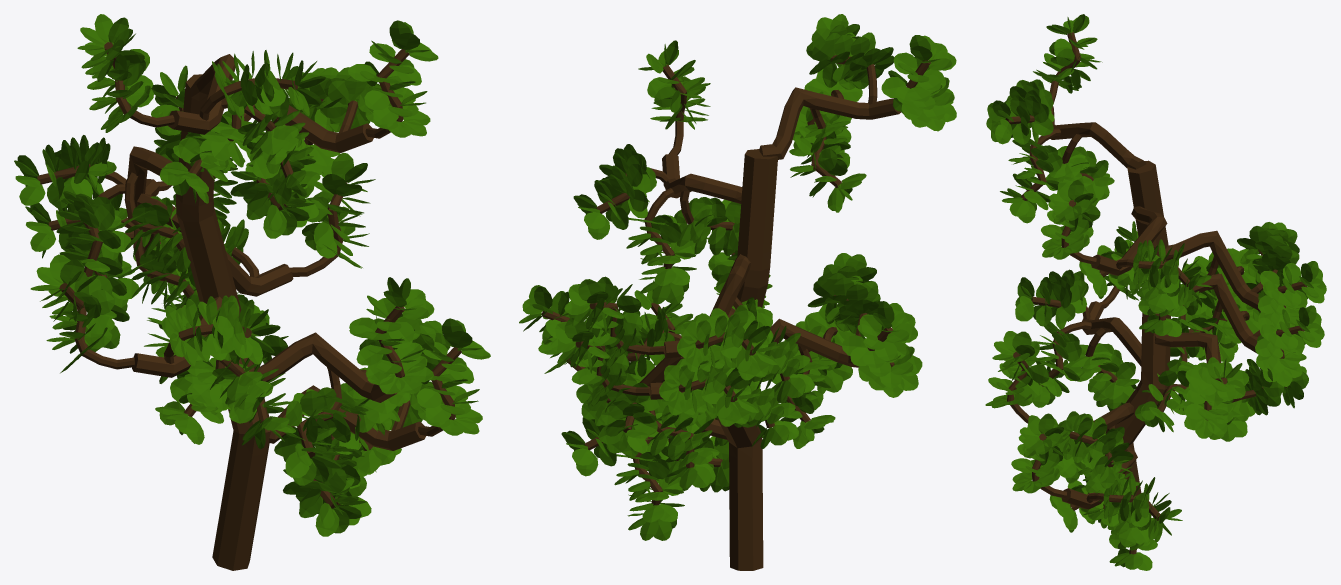
The model's file is Tree.fbx.
3 views of the same model, side by side, from view 1: azimuth 30°, elevation 25°; view 2: azimuth 150°, elevation 25°; view 3: azimuth 270°, elevation 25° (orthographic). The views are drawn at different scales.
Visible parts, largest first — view 1: geo1; view 2: geo1; view 3: geo1.
Boxes of the visible parts, left/top/right/bottom form: geo1: left=14, top=14, right=490, bottom=570; geo1: left=519, top=14, right=956, bottom=570; geo1: left=985, top=14, right=1326, bottom=570.
Size of the model in its own units: 2.31 by 3.46 by 2.3.
